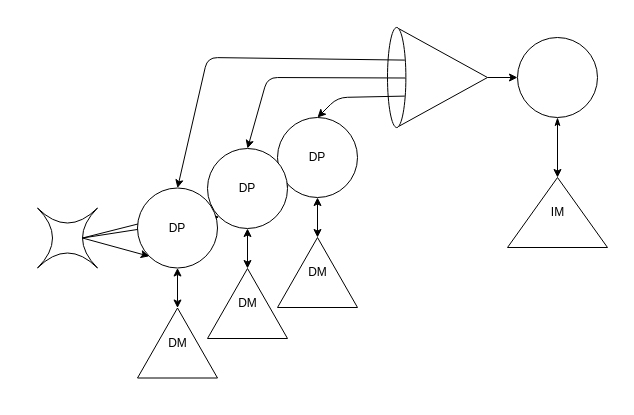
Image size: 634x415. Some labels were removed from this diagram. Each missing label, with the centre of its shape:
"IP" goes at (x=557, y=77).
"switch 1xN" goes at (x=437, y=77).
"switch NxN" goes at (x=67, y=237).
